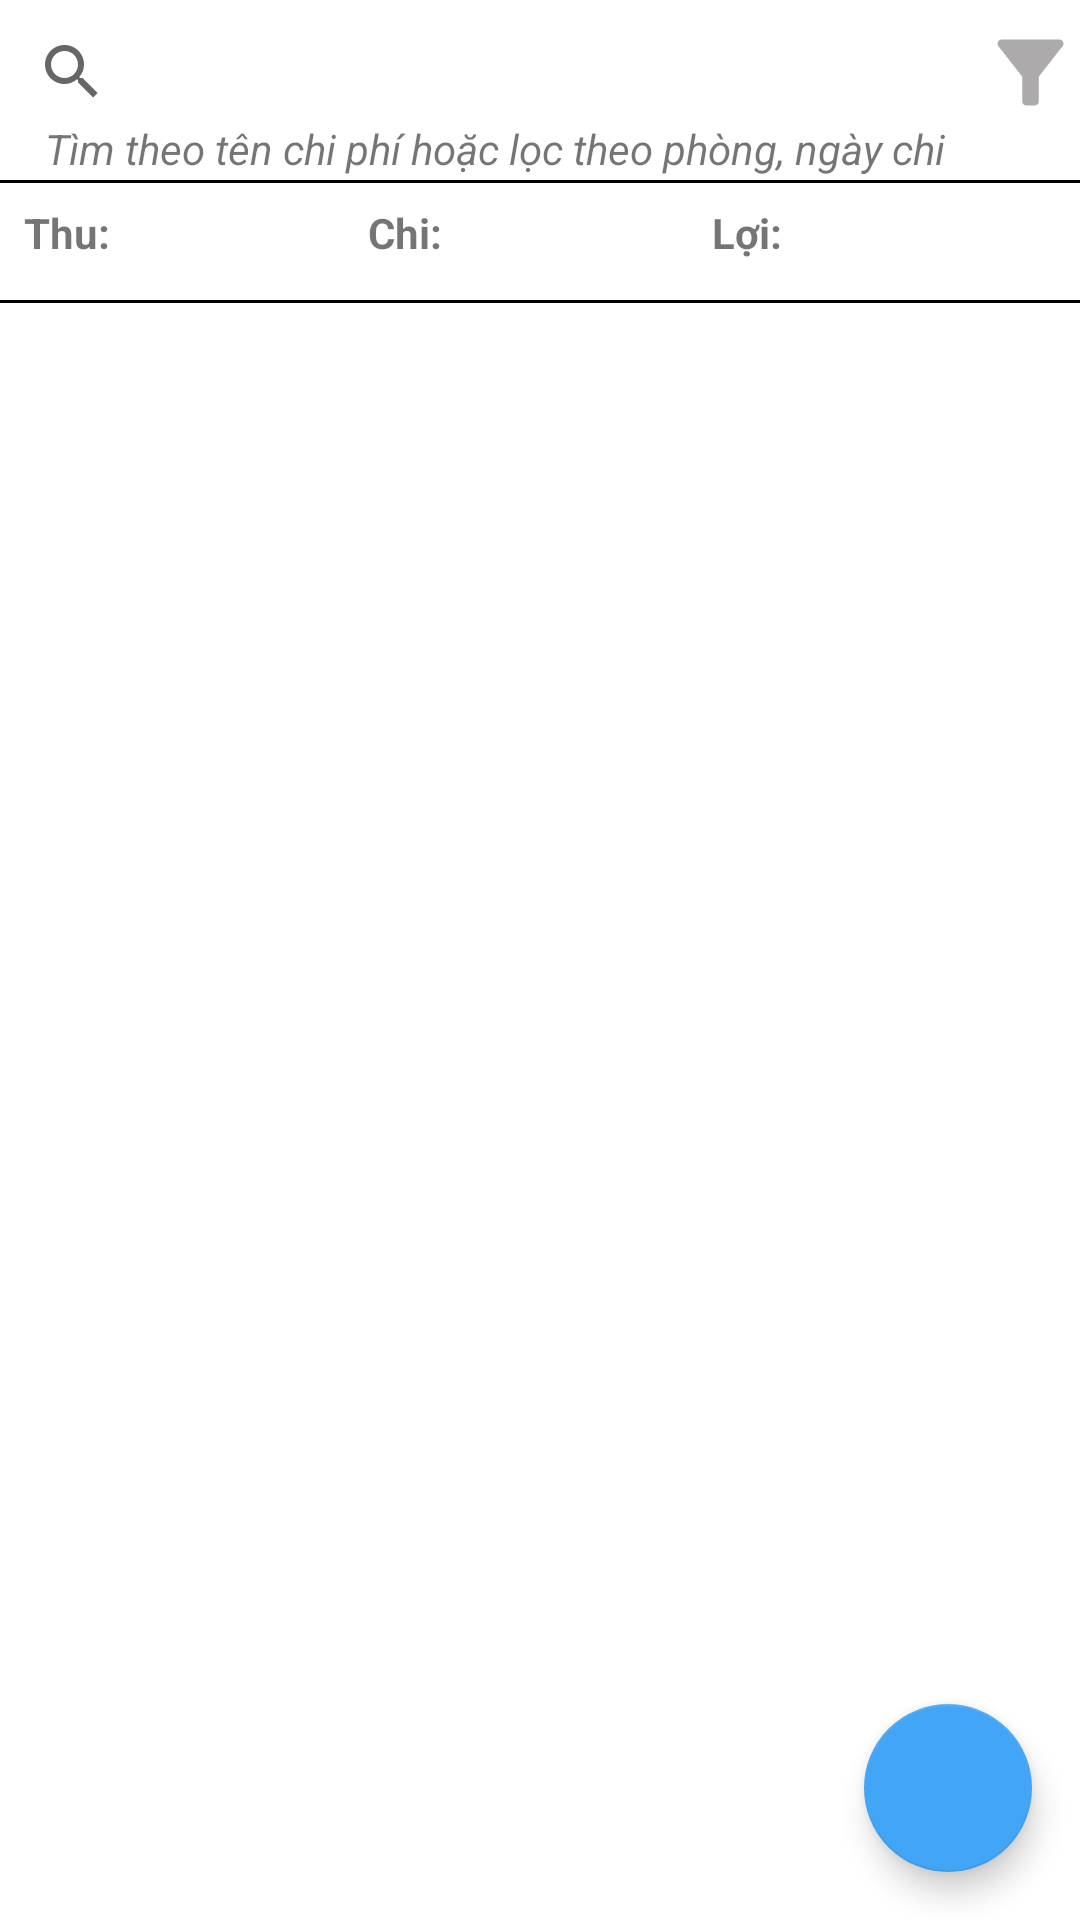

Where icons sit on this 1080px x 1920px app screen, as (x1, y1, x2, y2):
filter list: (997, 39, 1064, 106)
